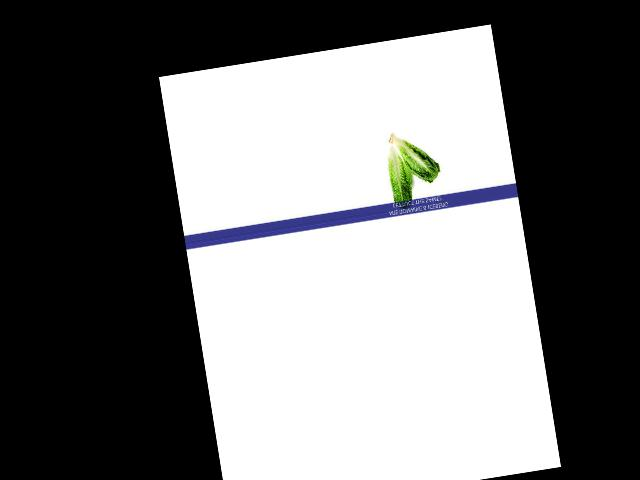lettuce: (386, 120, 440, 191)
